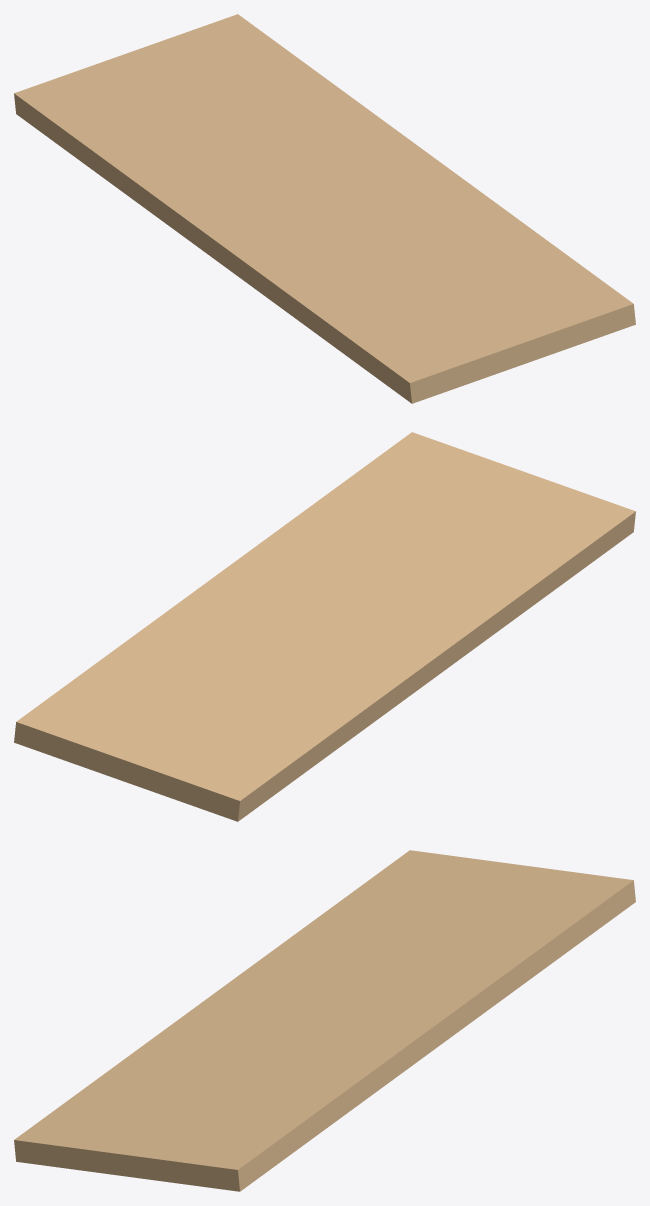
Rendered from tinker 1.obj.
The picture shows the model from 3 angles, top to bottom: view 1: azimuth 30°, elevation 25°; view 2: azimuth 150°, elevation 25°; view 3: azimuth 330°, elevation 25°; orthographic projection.
Visible parts, largest first — view 1: group_0_14860437; view 2: group_0_14860437; view 3: group_0_14860437.
Part boxes in pixels (<box>): group_0_14860437: <box>14,14,635,403</box>; group_0_14860437: <box>14,432,635,821</box>; group_0_14860437: <box>14,850,635,1191</box>.
Size of the model in its own units: 22.09 by 6.02 by 67.
